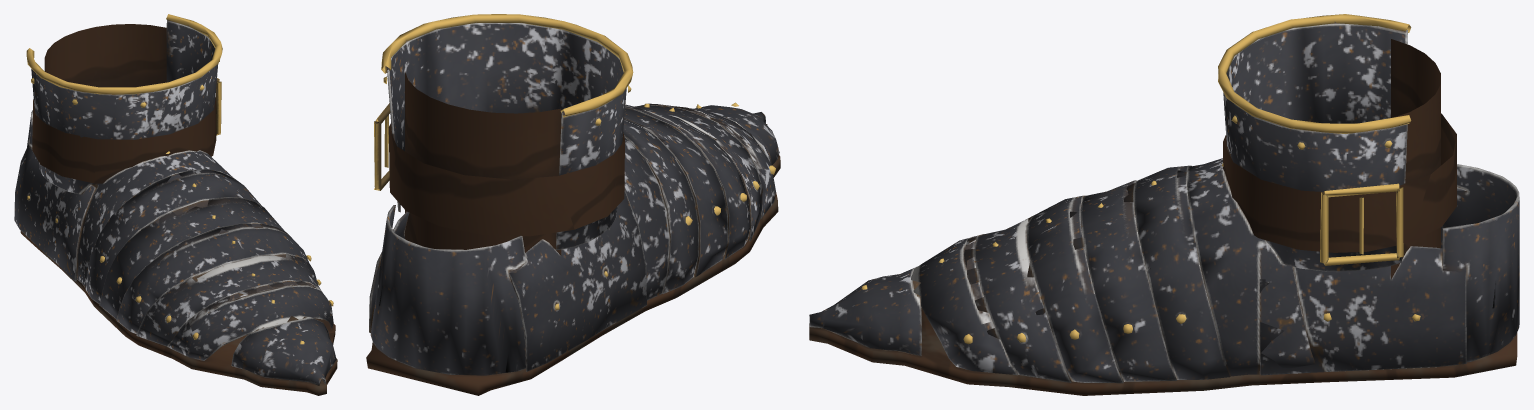
The model's file is SM_EagleSabatons_L_LOD2.fbx.
The picture shows the model from 3 angles, left to right: view 1: azimuth 30°, elevation 25°; view 2: azimuth 150°, elevation 25°; view 3: azimuth 270°, elevation 25°; orthographic projection. The views are drawn at different scales.
Visible parts, largest first — view 1: SM_EagleSabatons_L_LOD2; view 2: SM_EagleSabatons_L_LOD2; view 3: SM_EagleSabatons_L_LOD2.
Part boxes in pixels (x1,y1,x2,y2): SM_EagleSabatons_L_LOD2: [14, 14, 337, 395]; SM_EagleSabatons_L_LOD2: [366, 14, 780, 395]; SM_EagleSabatons_L_LOD2: [809, 14, 1519, 395].
Bounding box in the file's own units: 0.1105 × 0.1171 × 0.2808.
